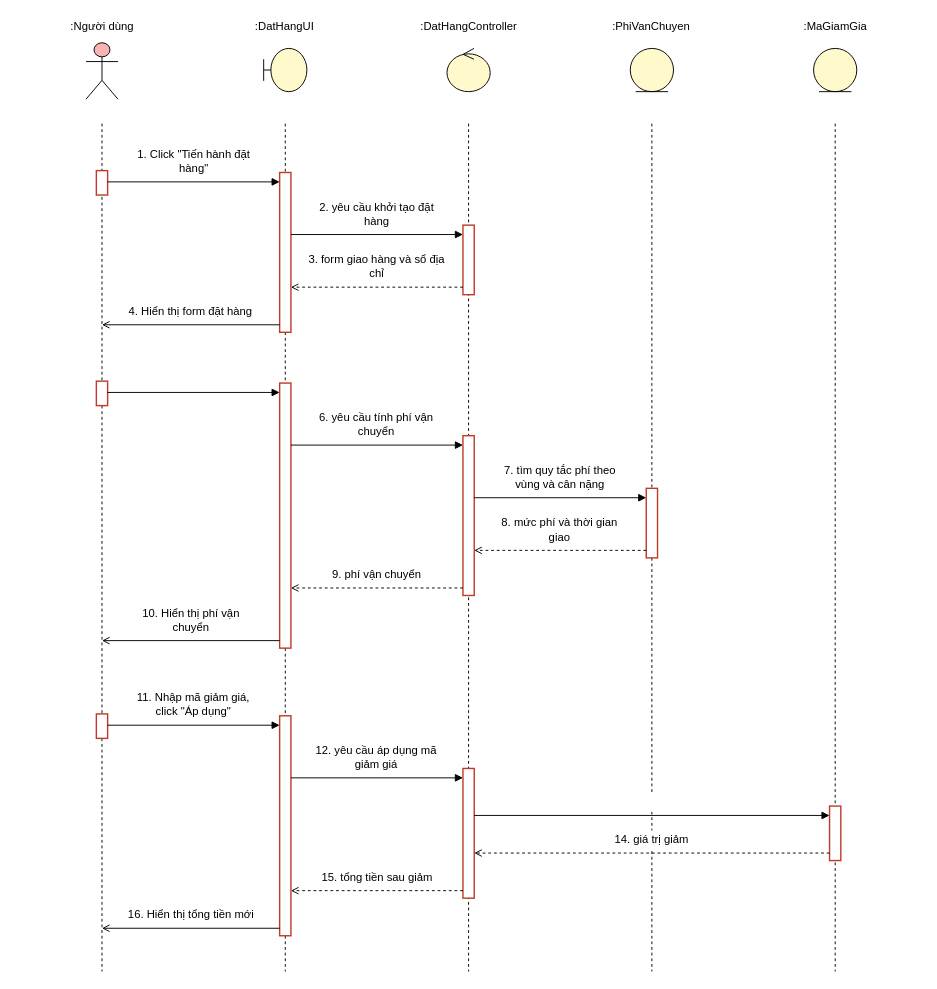
The diagram is 937 pixels wide and 989 high, and some of its shapes have lost their labels. Here are the shapes that lost their labels. From the top down, the centre of each, then its label:
point (193, 363): 5. Chọn phương thức nhận hàng, địa chỉ hoặc cửa hàng
point (651, 801): 13. kiểm tra mã và điều kiện áp dụng
